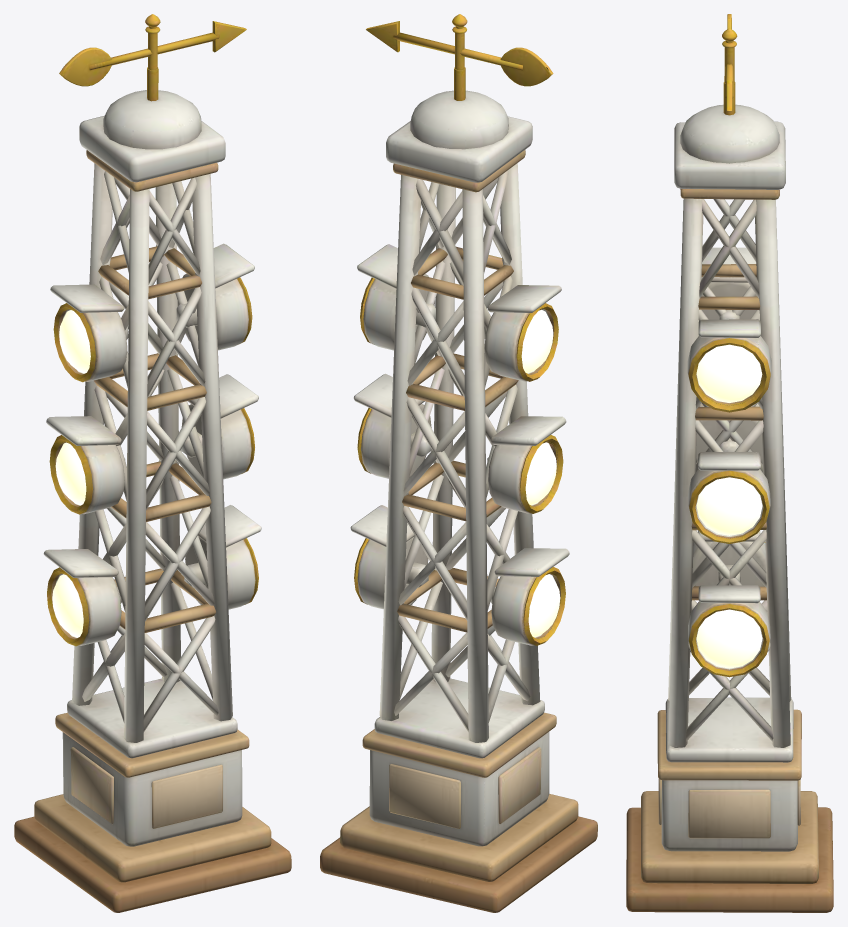
File: signal-mast.glb
3 renders of one model, left to right at view 1: azimuth 30°, elevation 25°; view 2: azimuth 150°, elevation 25°; view 3: azimuth 270°, elevation 25°, orthographic.
Visible parts, largest first — view 1: mast, lamps, vane; view 2: mast, lamps, vane; view 3: mast, lamps, vane.
Part boxes in pixels (x1=…): mast: x1=14, y1=67, x2=291, y2=912; lamps: x1=52, y1=310, x2=90, y2=637; vane: x1=59, y1=14, x2=246, y2=86; mast: x1=320, y1=67, x2=597, y2=912; lamps: x1=521, y1=309, x2=560, y2=637; vane: x1=366, y1=14, x2=553, y2=86; mast: x1=626, y1=82, x2=833, y2=912; lamps: x1=696, y1=344, x2=762, y2=668; vane: x1=722, y1=14, x2=737, y2=110.
Bounding box in the file's own units: 1.06 × 4.51 × 1.01.
6 materials, 5 textured.
